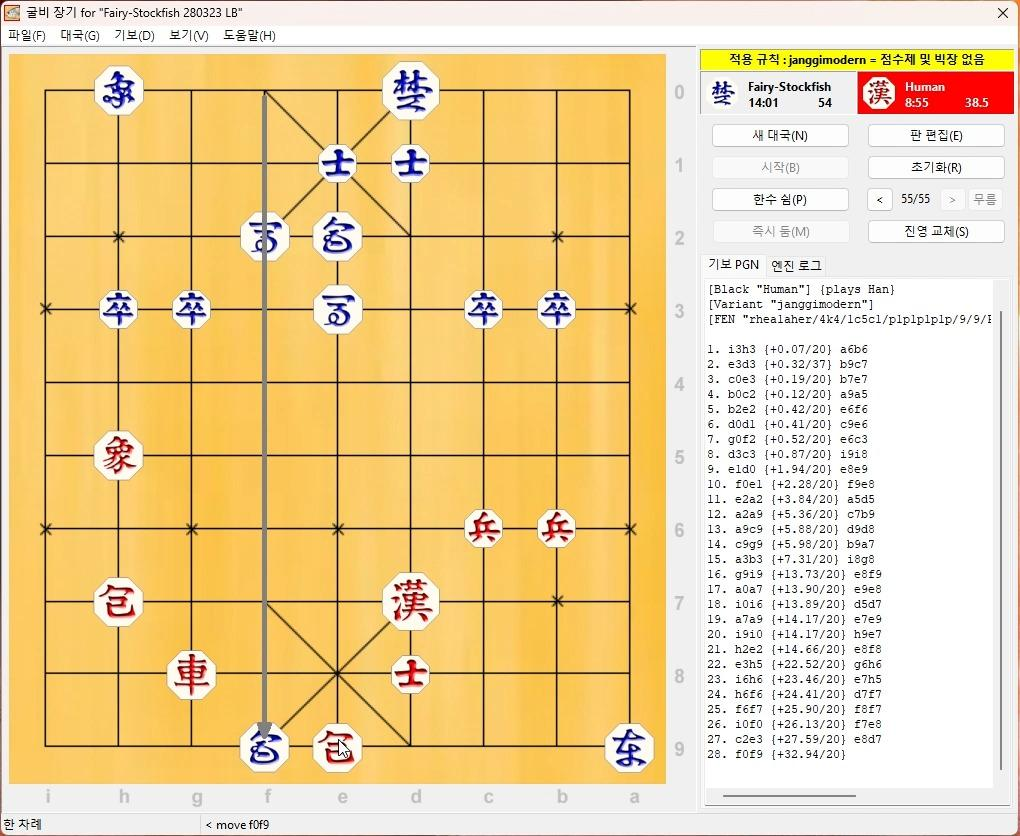cha_green: (606, 725, 655, 774)
cha_red: (169, 654, 218, 699)
jol_green: (172, 292, 211, 329), (466, 292, 504, 328), (537, 293, 576, 328), (98, 293, 137, 328)
jol_red: (466, 509, 503, 550), (538, 511, 576, 550)
ma_green: (240, 214, 292, 263), (315, 285, 363, 330)
po_green: (316, 214, 365, 259), (241, 725, 291, 768)
po_red: (94, 580, 143, 625), (315, 725, 362, 771)
sa_green: (319, 143, 358, 183), (391, 148, 431, 182)
sa_red: (391, 658, 430, 692)
sang_green: (95, 68, 144, 114)
sang_red: (94, 434, 145, 479)
wang_green: (382, 63, 439, 117)
wang_red: (382, 574, 442, 630)
